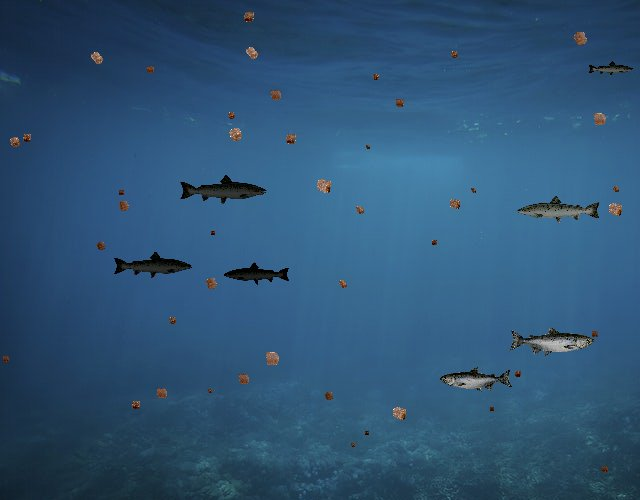Fish: (178, 173, 268, 206), (516, 194, 602, 225), (508, 326, 594, 357), (112, 251, 193, 280), (440, 366, 513, 393), (224, 261, 292, 286), (587, 61, 634, 78)
Pellet: (3, 131, 26, 153), (238, 6, 260, 28), (350, 200, 369, 219), (391, 94, 408, 112), (428, 236, 441, 249), (115, 187, 127, 199), (204, 386, 214, 396)
